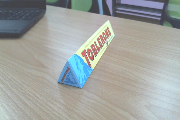Chocolate: (52, 15, 123, 94)
